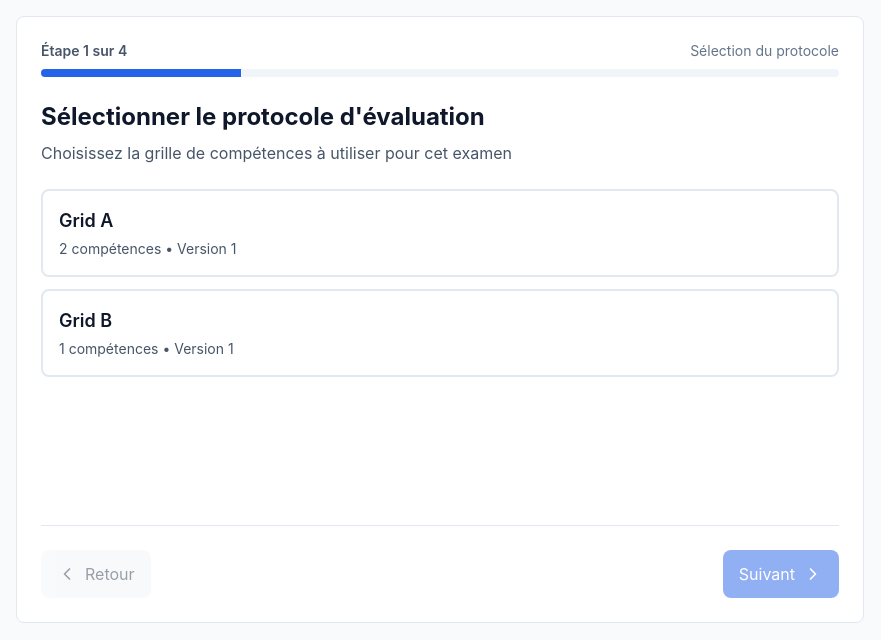
it: ExamWizard › navigates to step 2 when Suivant is clicked
The image size is (881, 640).
Click the text "Grid A": [440, 233] box [41,189,839,277]
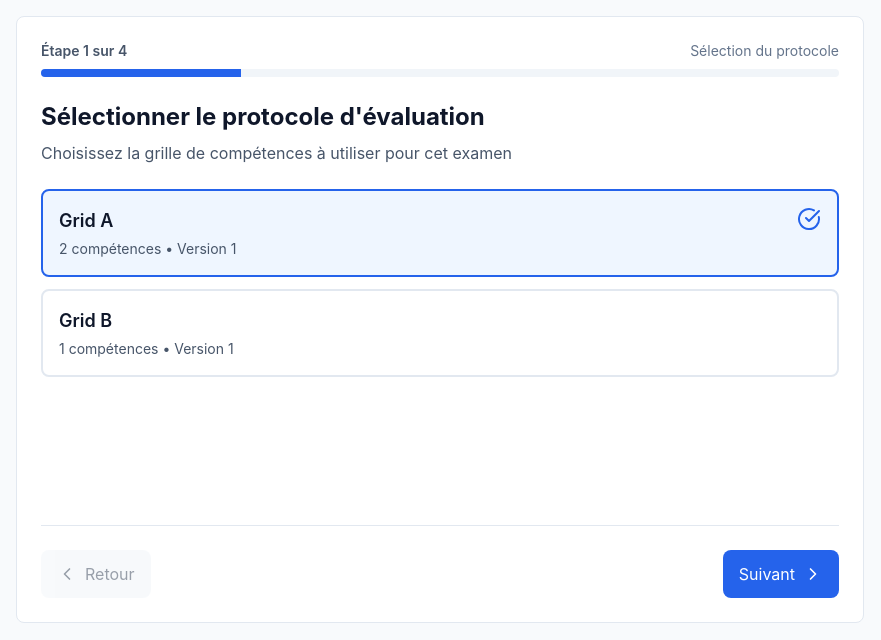
Click the button "Suivant": [781, 574] box [723,550,839,598]
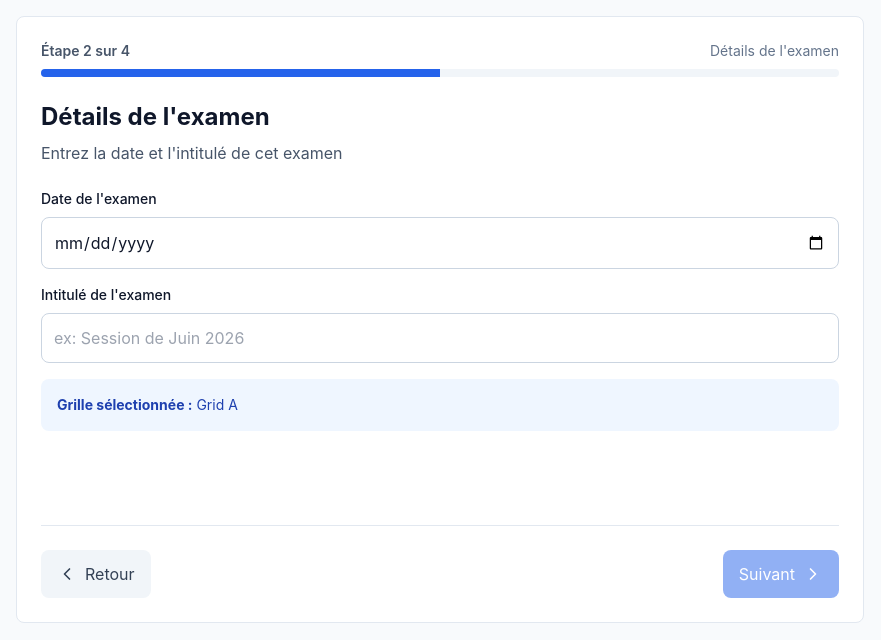
Check: the text "Étape 2 sur 4" is shown, box [41,41,130,61]
Check: the heading "Détails de l'examen" is shown, box [41,102,270,131]
